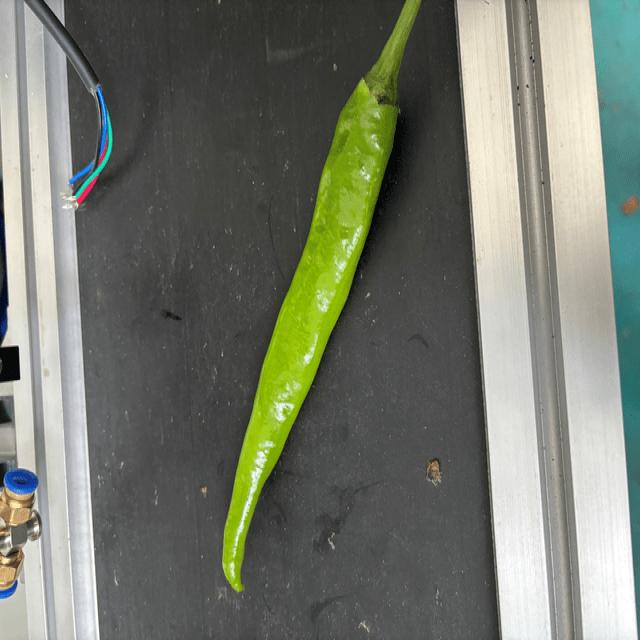chili: (220, 63, 402, 596)
